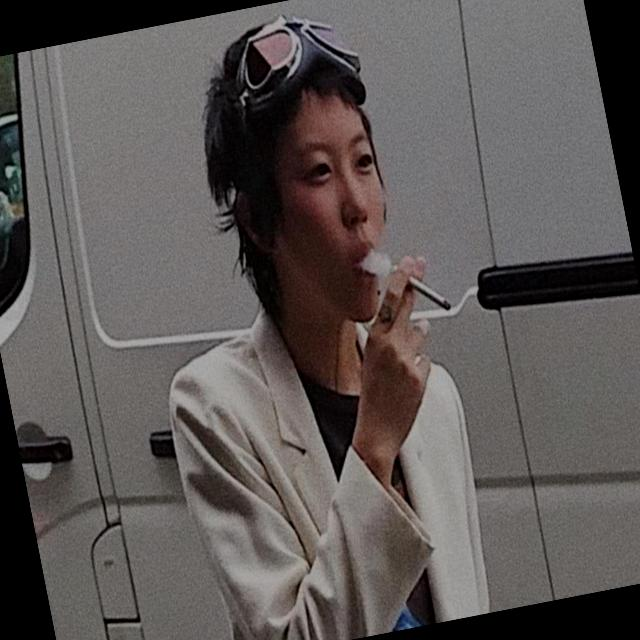cigarette: (410, 266, 453, 314)
